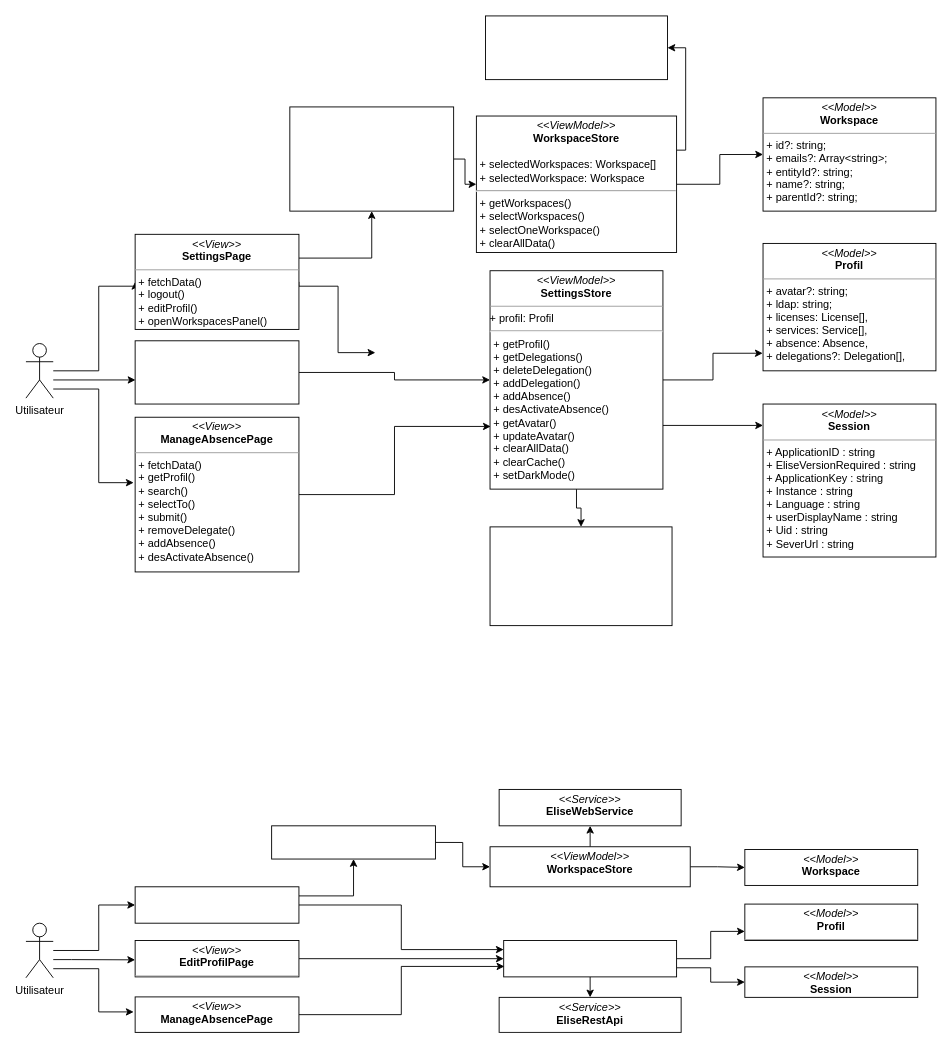
Some shapes in this 952 by 1048 pixel diagram are drawn without their labels. The shapes that lost their labels are listed below. From the top down, each one's box as (x1, y1, x2, y2) in pixels, then its label:
(485, 15, 667, 80): <<Service>> EliseWebService + GetFlowchartItems()
(289, 106, 454, 211): <<View>> workspacesModal + open() + handleInput() + save() + cancel()
(134, 340, 299, 404): <<View>> EditProfilPage + fetchData()
(489, 526, 672, 626): <<Service>> EliseRestApi + POST + GET + PUT + DELETE
(271, 825, 435, 859): <<View>> workspacesModal
(134, 886, 299, 923): <<View>> SettingsPage
(503, 940, 677, 977): <<ViewModel>> SettingsStore
